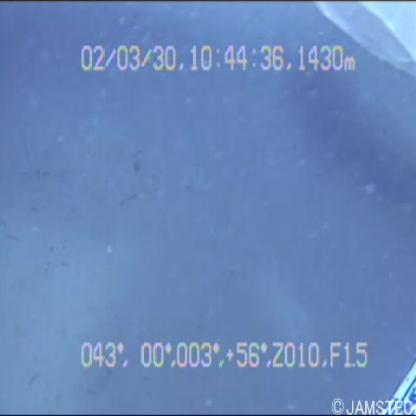Rác: (301, 1, 416, 82)
